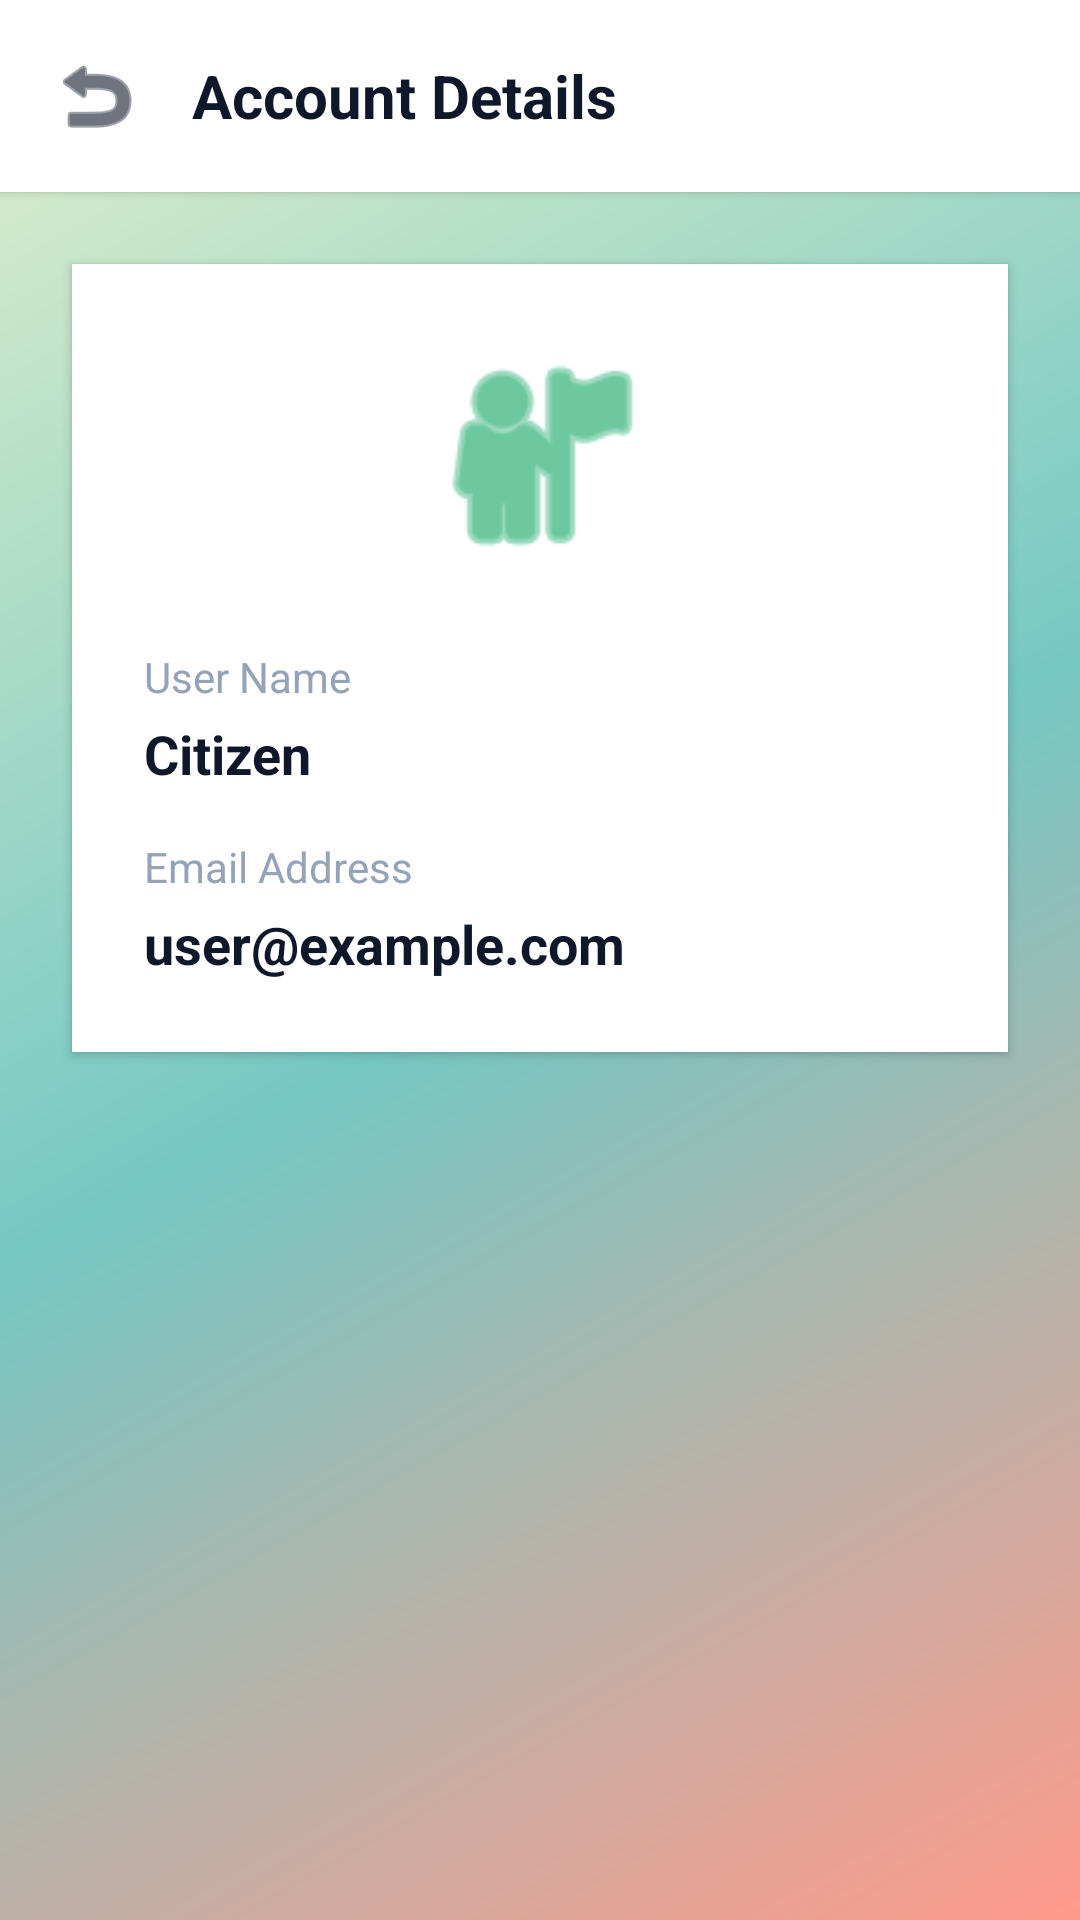

Locate icon controls on the screen. Image size 1080px×1920px, boxes as (x1, y1, x2, y2).
myplaces: (452, 366, 633, 546)
revert: (63, 65, 132, 128)
